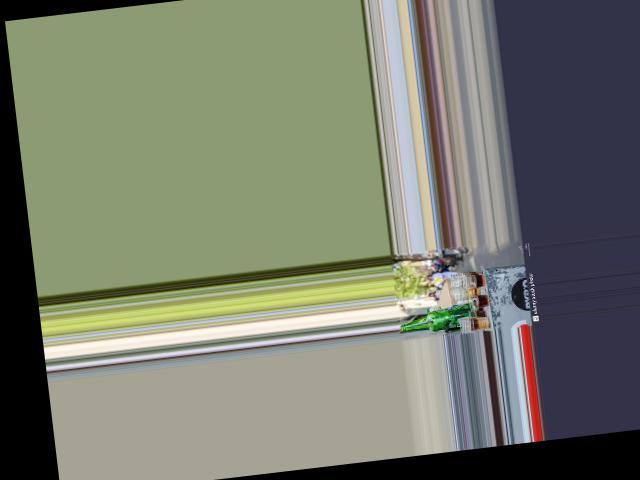beer: (398, 300, 482, 335)
